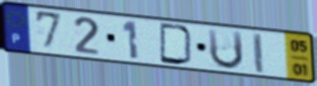1: (122, 20, 142, 62)
2: (72, 16, 102, 57)
7: (34, 9, 66, 53)
D: (158, 21, 196, 67)
I: (251, 31, 266, 76)
U: (205, 27, 245, 71)
